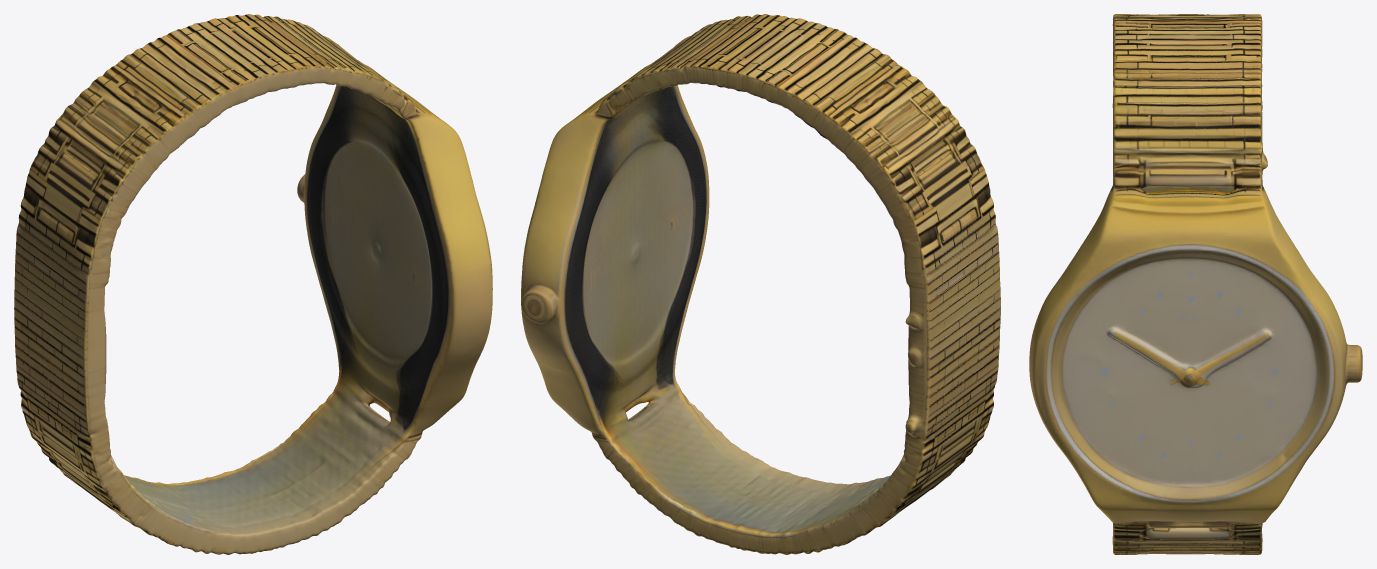
Rendered from ReloJ Dorado.glb.
3 renders of one model, left to right at view 1: azimuth 30°, elevation 25°; view 2: azimuth 150°, elevation 25°; view 3: azimuth 270°, elevation 25°, orthographic. The views are drawn at different scales.
Parts seen in each view (by area): view 1: tripo_node_98ad9421-90b3-420a-a2a9-ac55a70be426; view 2: tripo_node_98ad9421-90b3-420a-a2a9-ac55a70be426; view 3: tripo_node_98ad9421-90b3-420a-a2a9-ac55a70be426.
Part boxes in pixels (x1,y1,x2,y2): tripo_node_98ad9421-90b3-420a-a2a9-ac55a70be426: [14, 14, 492, 554]; tripo_node_98ad9421-90b3-420a-a2a9-ac55a70be426: [521, 14, 1000, 554]; tripo_node_98ad9421-90b3-420a-a2a9-ac55a70be426: [1029, 14, 1362, 554].
Bounding box in the file's own units: 0.7768 × 0.9463 × 0.5758.
Materials: 1 (1 with a texture image).
